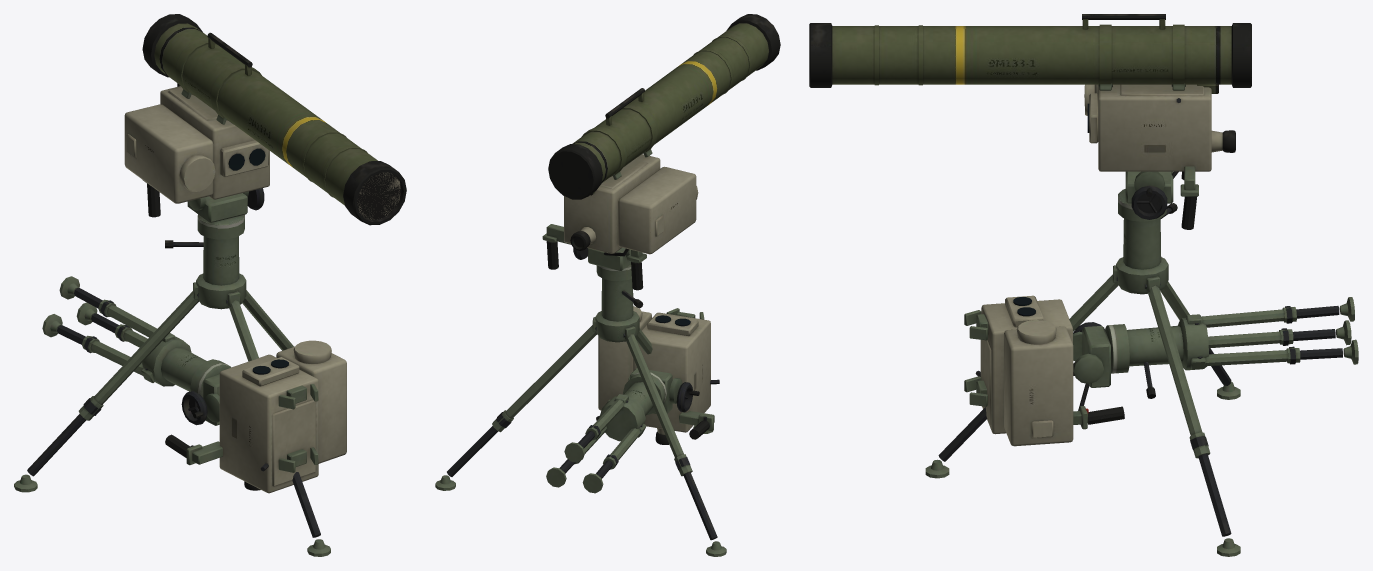
The model's file is kornet.glb.
3 views of the same model, side by side, from view 1: azimuth 30°, elevation 25°; view 2: azimuth 150°, elevation 25°; view 3: azimuth 270°, elevation 25° (orthographic). The views are drawn at different scales.
Visible parts, largest first — view 1: folded_mesh, kornet_tripod_mesh, kornet_tube_mesh; view 2: kornet_tripod_mesh, folded_mesh, kornet_tube_mesh; view 3: kornet_tube_mesh, folded_mesh, kornet_tripod_mesh.
Part boxes in pixels (bbox=[...]): folded_mesh: bbox=[42, 276, 346, 493]; kornet_tripod_mesh: bbox=[14, 86, 330, 556]; kornet_tube_mesh: bbox=[142, 14, 406, 225]; kornet_tripod_mesh: bbox=[435, 149, 726, 556]; folded_mesh: bbox=[546, 306, 719, 493]; kornet_tube_mesh: bbox=[548, 14, 780, 199]; kornet_tube_mesh: bbox=[809, 14, 1251, 93]; folded_mesh: bbox=[964, 295, 1358, 446]; kornet_tripod_mesh: bbox=[925, 83, 1240, 556].
Size of what is drawn, in the model's own units: 1.08 by 1.38 by 1.5.
1 material, 1 textured.
